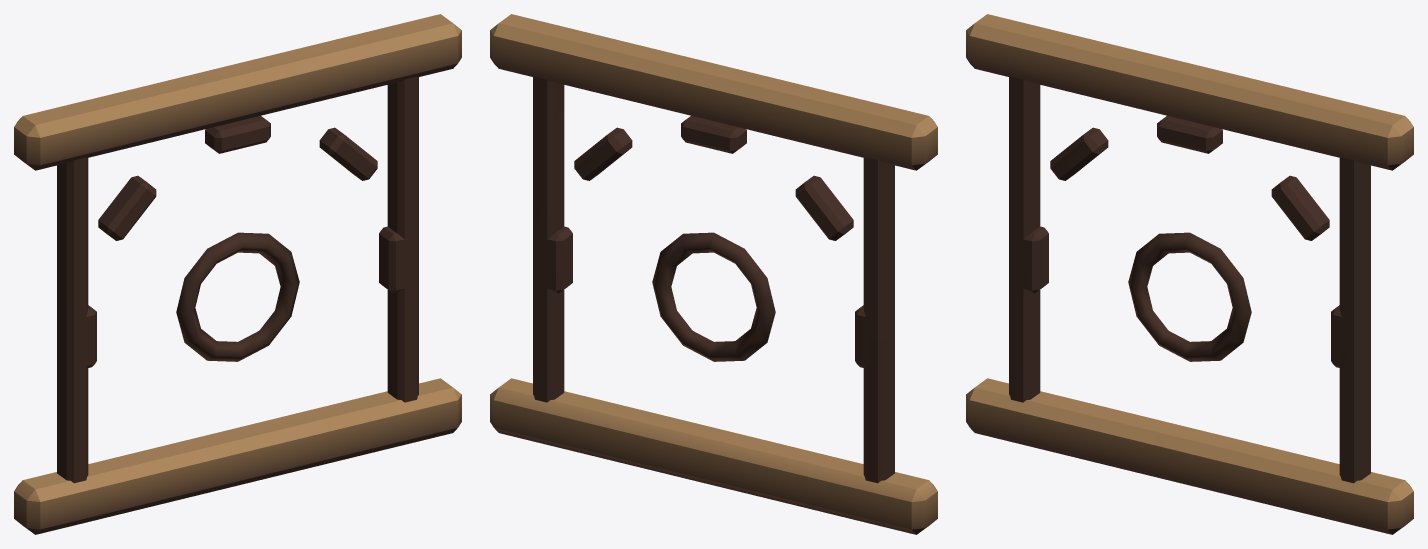
File: fence_ornate.glb
3 views of the same model, side by side, from view 1: azimuth 30°, elevation 25°; view 2: azimuth 150°, elevation 25°; view 3: azimuth 330°, elevation 25° (orthographic).
Parts seen in each view (by area): view 1: FenceRail; view 2: FenceRail; view 3: FenceRail.
Boxes of the visible parts, x1,y1,x2,y2 form: FenceRail: [14, 14, 461, 534]; FenceRail: [490, 14, 937, 534]; FenceRail: [966, 14, 1413, 534].
Bounding box in the file's own units: 1 × 0.9 × 0.09.
